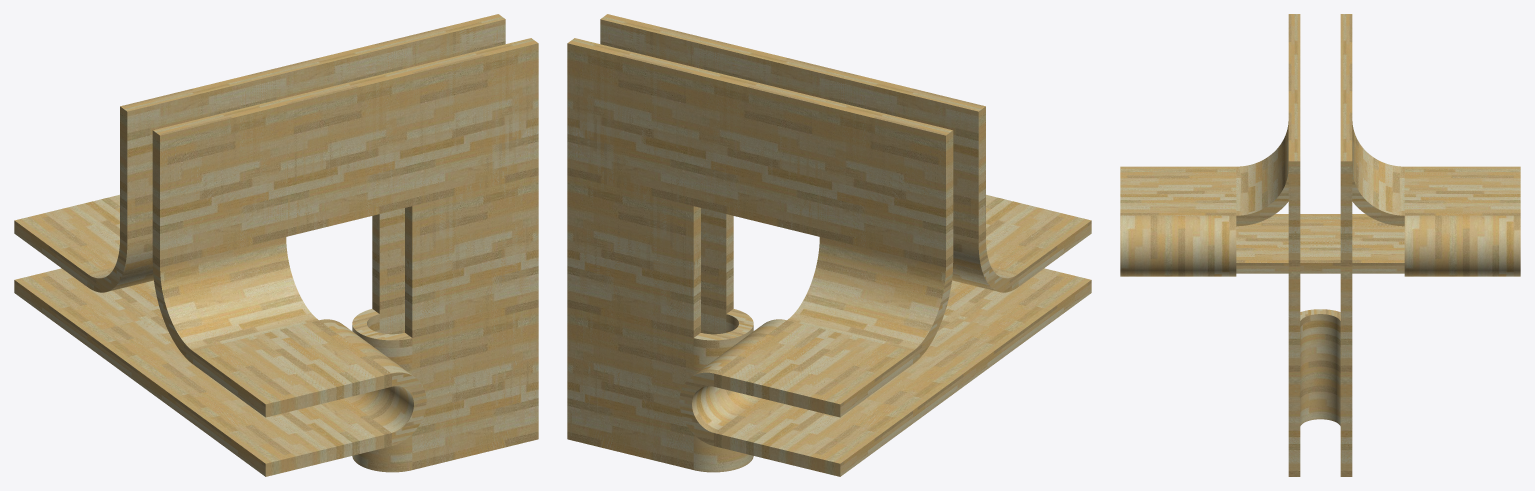
Rendered from BigLoop.dae.
The picture shows the model from 3 angles, left to right: view 1: azimuth 30°, elevation 25°; view 2: azimuth 150°, elevation 25°; view 3: azimuth 270°, elevation 25°; orthographic projection. The views are drawn at different scales.
Visible parts, largest first — view 1: instance_7 (×4), instance_3 (×4), instance_2 (×4), instance_4 (×2), instance_6 (×2), instance_5 (×2), instance_9 (×2), instance_8 (×4), group_1, instance_0, instance_10; view 2: instance_7 (×4), instance_3 (×4), instance_2 (×4), instance_4 (×2), instance_6 (×2), instance_5 (×2), instance_9 (×2), instance_8 (×4), group_1, instance_11, instance_10; view 3: instance_6 (×2), group_1, instance_0, instance_11, instance_8 (×4), instance_10, instance_2 (×4), instance_4 (×2), instance_5 (×2), instance_3 (×2), instance_7 (×2).
Boxes of the visible parts, box(x1,y1,x2,y2) form: instance_7 (×4): box(120, 75, 286, 267); instance_3 (×4): box(246, 45, 412, 236); instance_2 (×4): box(372, 14, 538, 205); instance_4 (×2): box(372, 175, 538, 337); instance_6 (×2): box(14, 194, 391, 417); instance_5 (×2): box(379, 307, 538, 469); instance_9 (×2): box(14, 268, 391, 476); instance_8 (×4): box(87, 237, 318, 363); group_1: box(87, 315, 239, 423); instance_0: box(319, 319, 426, 445); instance_10: box(352, 309, 412, 472); instance_7 (×4): box(819, 75, 985, 267); instance_3 (×4): box(693, 45, 859, 236); instance_2 (×4): box(567, 14, 733, 205); instance_4 (×2): box(567, 175, 733, 337); instance_6 (×2): box(714, 194, 1091, 417); instance_5 (×2): box(567, 307, 726, 469); instance_9 (×2): box(714, 268, 1091, 476); instance_8 (×4): box(787, 237, 1018, 363); group_1: box(866, 315, 1018, 423); instance_11: box(679, 319, 786, 445); instance_10: box(693, 309, 753, 472); instance_6 (×2): box(1120, 166, 1520, 215); group_1: box(1236, 214, 1404, 273); instance_0: box(1120, 215, 1236, 276); instance_11: box(1404, 215, 1520, 276); instance_8 (×4): box(1236, 121, 1404, 226); instance_10: box(1300, 309, 1340, 425); instance_2 (×4): box(1288, 112, 1352, 266); instance_4 (×2): box(1288, 266, 1352, 371); instance_5 (×2): box(1288, 371, 1352, 476); instance_3 (×2): box(1288, 63, 1352, 111); instance_7 (×2): box(1288, 14, 1352, 62).
Size of the model in its own units: 118 by 136 by 118.
2 materials, 2 textured.
